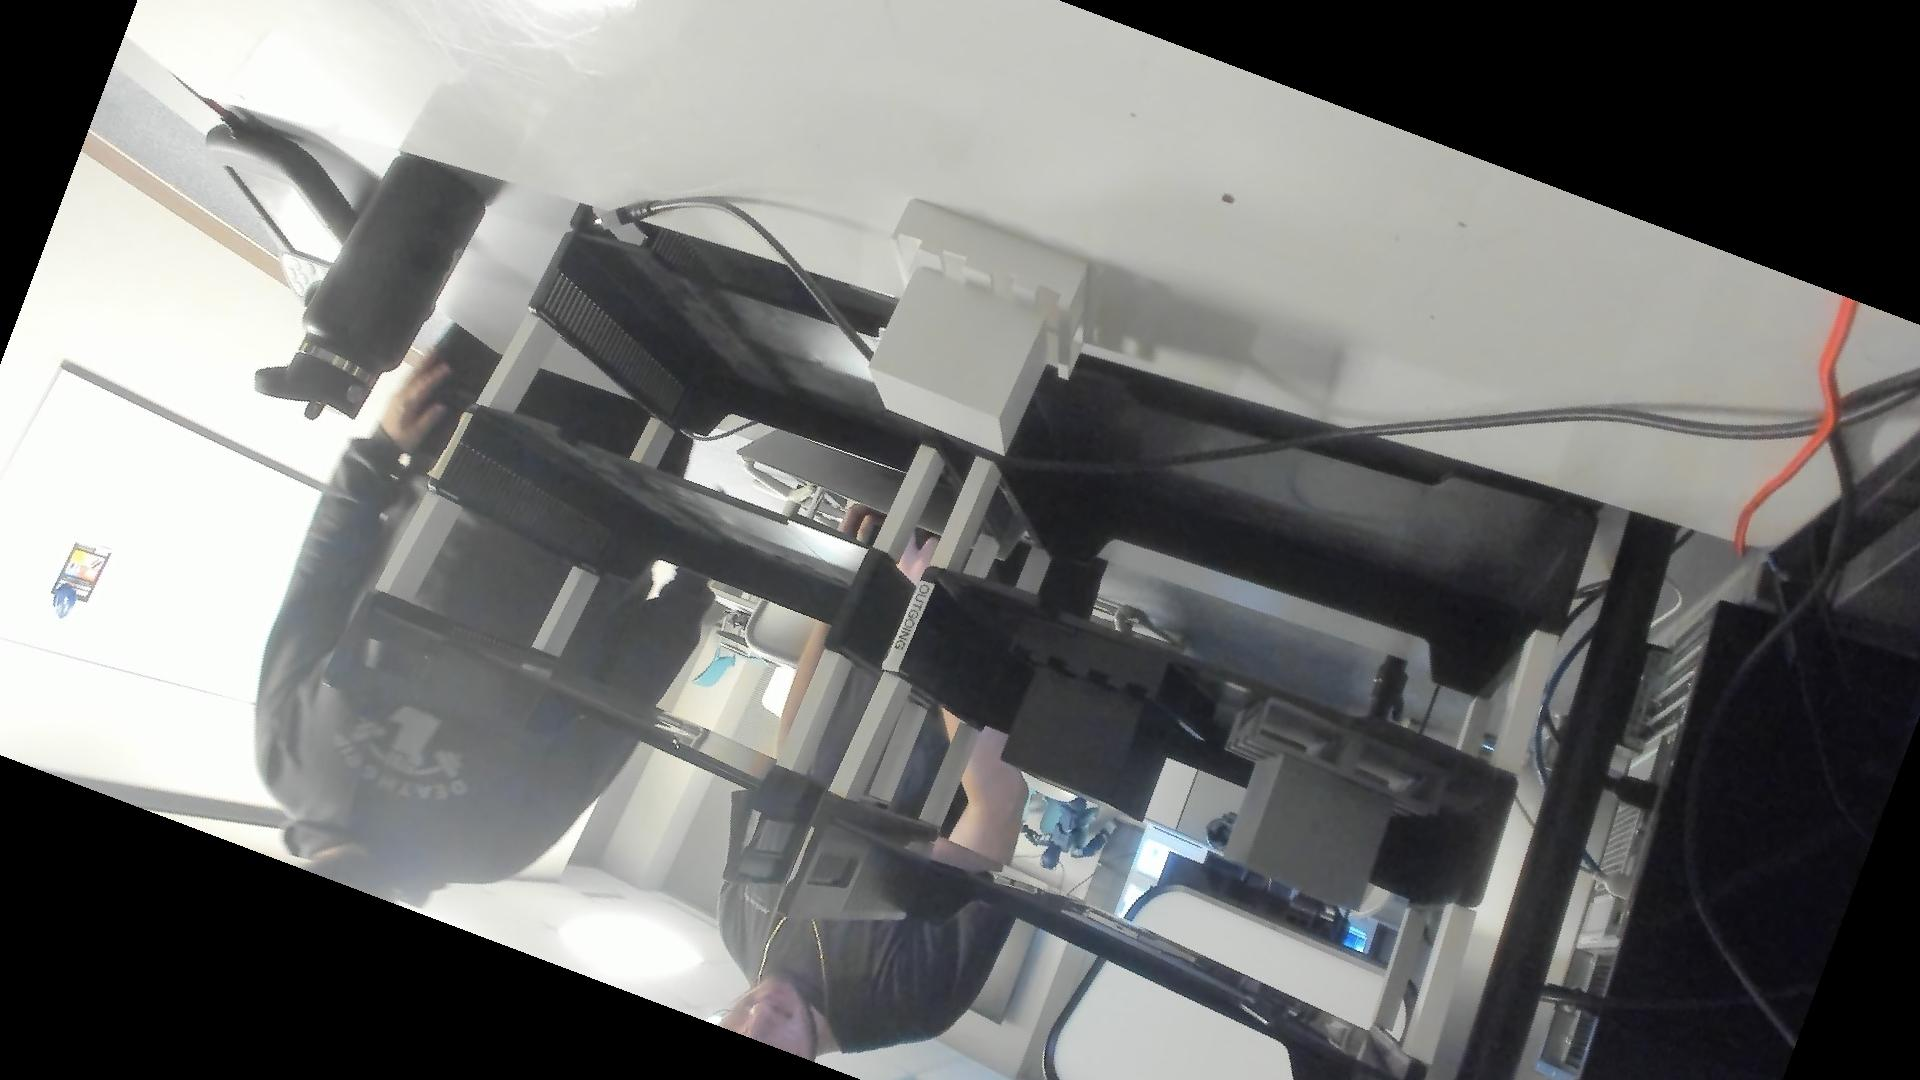black pallet: (986, 611, 1208, 825)
grey pallet: (1215, 690, 1453, 916)
white pallet: (857, 193, 1095, 463)
